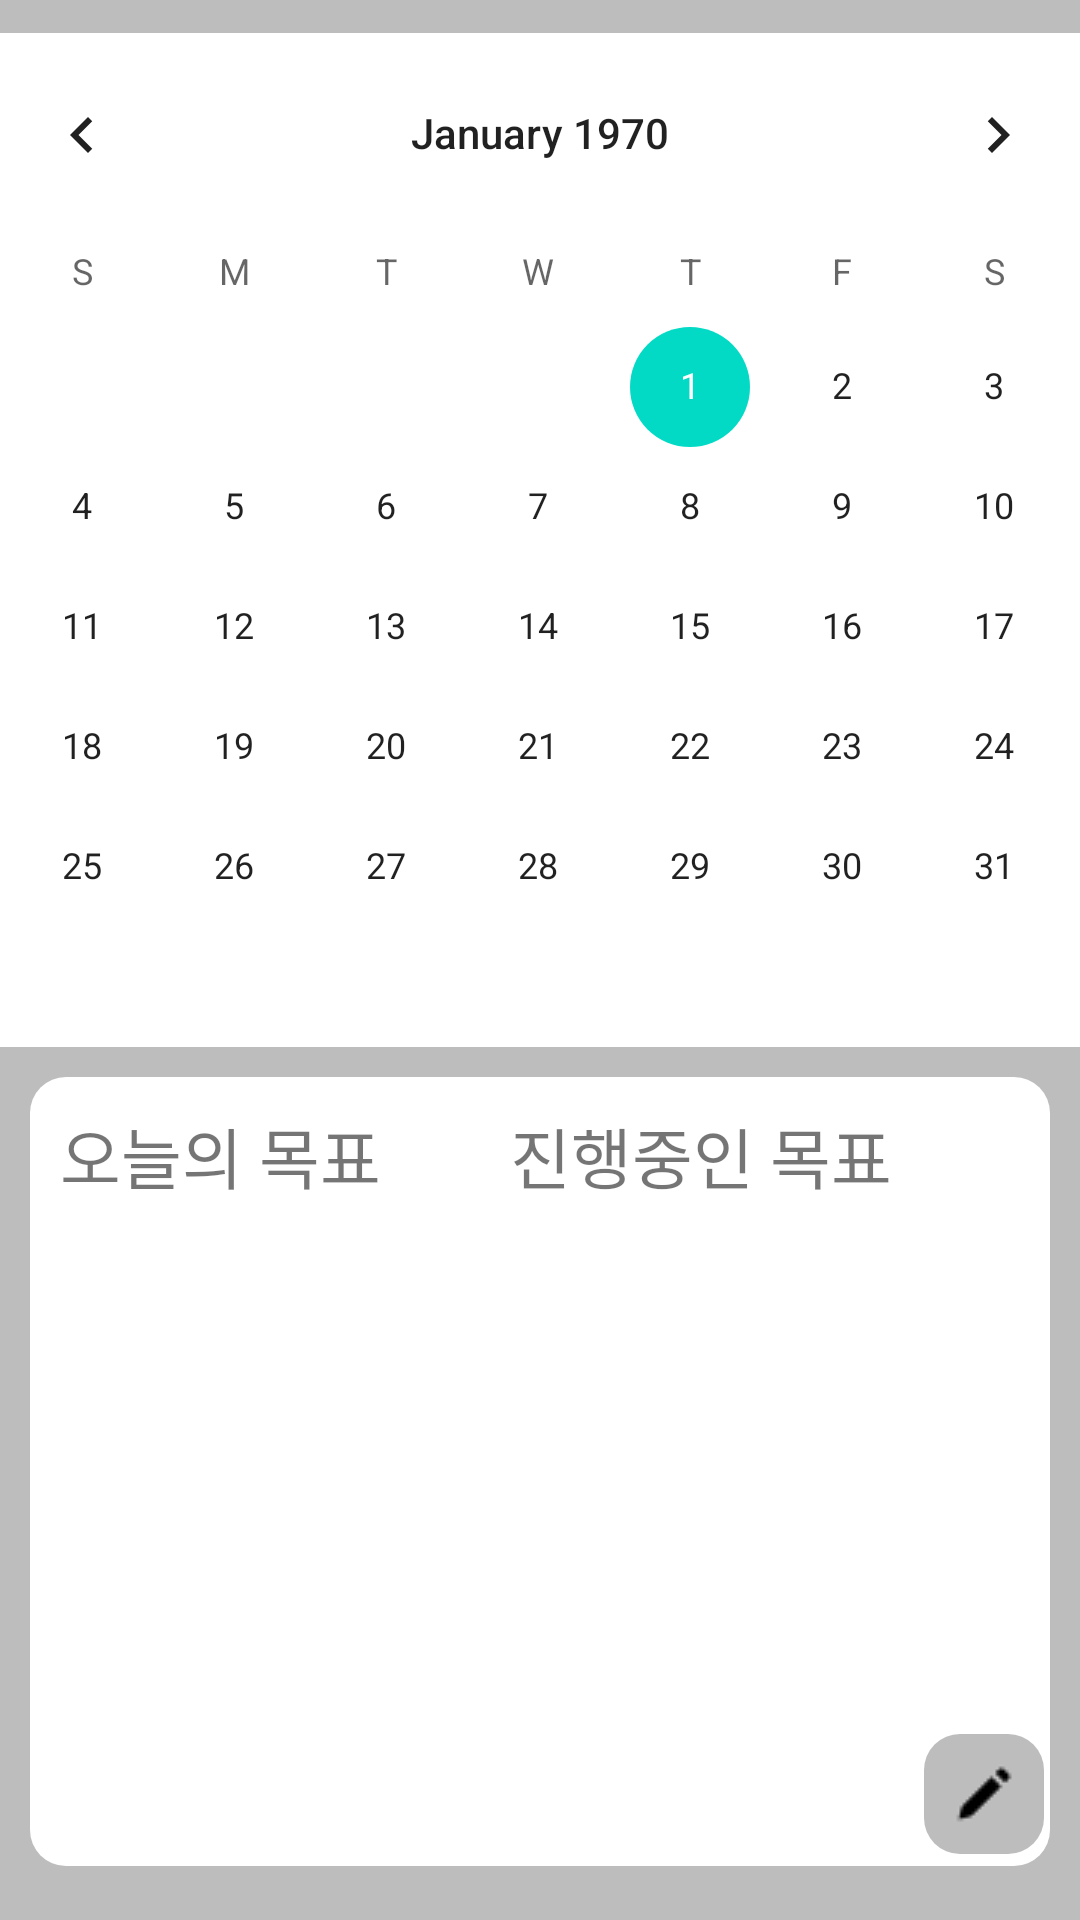

Locate icon controls on the screen. Image size 1080px×1920px, boxes as [left=x1, top=y1, right=x2, bottom=y2].
pen: [left=924, top=1734, right=1044, bottom=1854]
